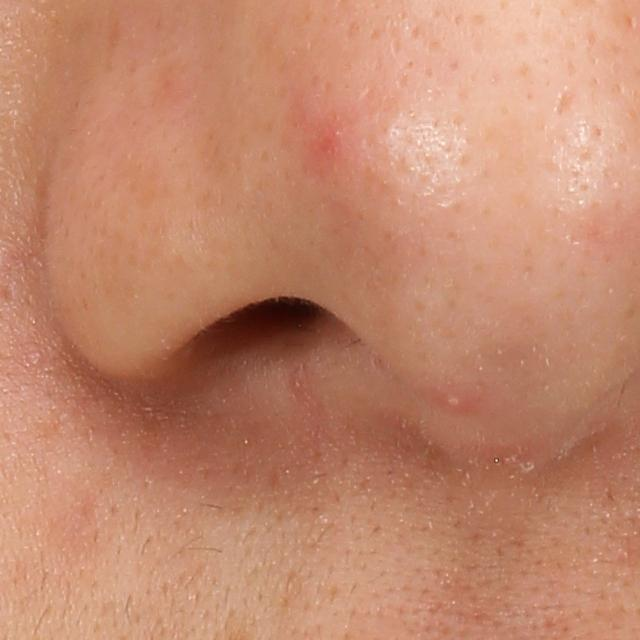atrophic_scar: (546, 84, 580, 124)
